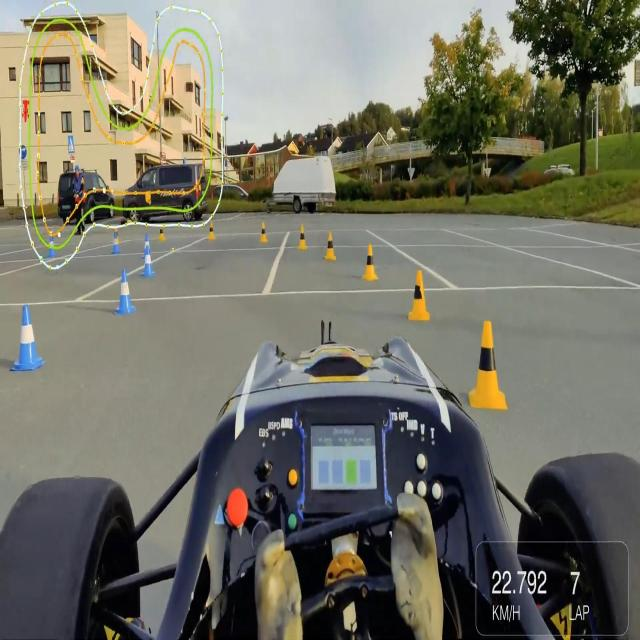blue_cone: (12, 303, 45, 371), (114, 268, 136, 315), (142, 247, 154, 278), (112, 227, 122, 257), (47, 232, 56, 261), (142, 231, 151, 255)
yellow_cone: (471, 318, 508, 410), (407, 268, 433, 324), (362, 243, 379, 283), (325, 229, 337, 261), (298, 225, 308, 252), (261, 223, 267, 243), (209, 222, 215, 241), (160, 222, 166, 241)
